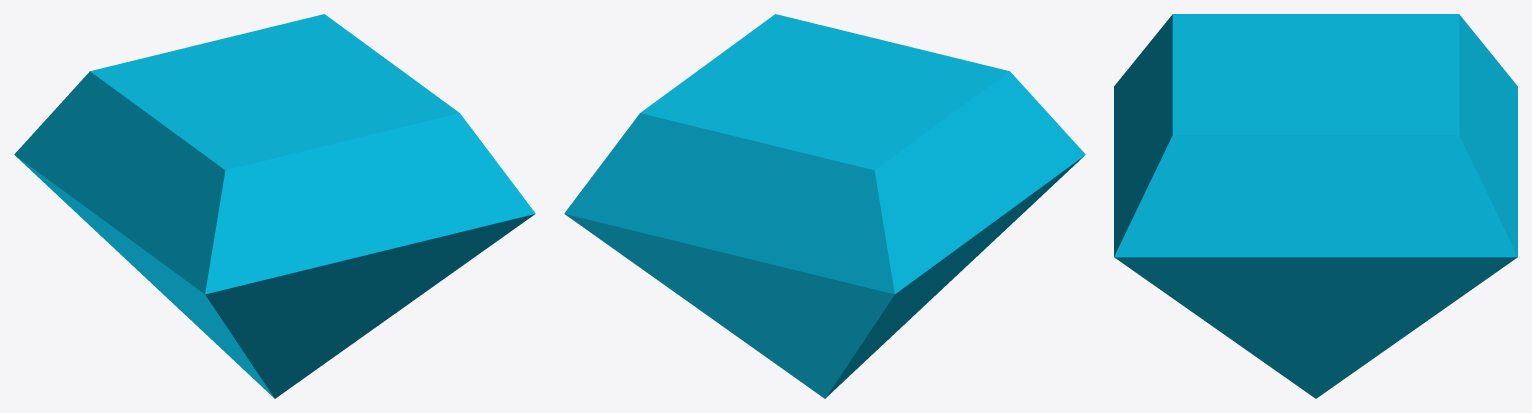
File: diamond.fbx
3 views of the same model, side by side, from view 1: azimuth 30°, elevation 25°; view 2: azimuth 150°, elevation 25°; view 3: azimuth 270°, elevation 25° (orthographic). The views are drawn at different scales.
Parts seen in each view (by area): view 1: diamond_1; view 2: diamond_1; view 3: diamond_1.
Boxes of the visible parts, x1,y1,x2,y2 form: diamond_1: [14, 14, 535, 398]; diamond_1: [564, 14, 1085, 398]; diamond_1: [1114, 14, 1517, 398].
Size of the model in its own units: 226 by 200 by 226.
